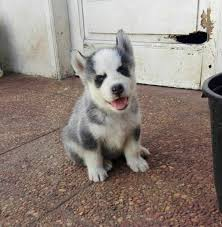husky: (62, 23, 142, 123)
